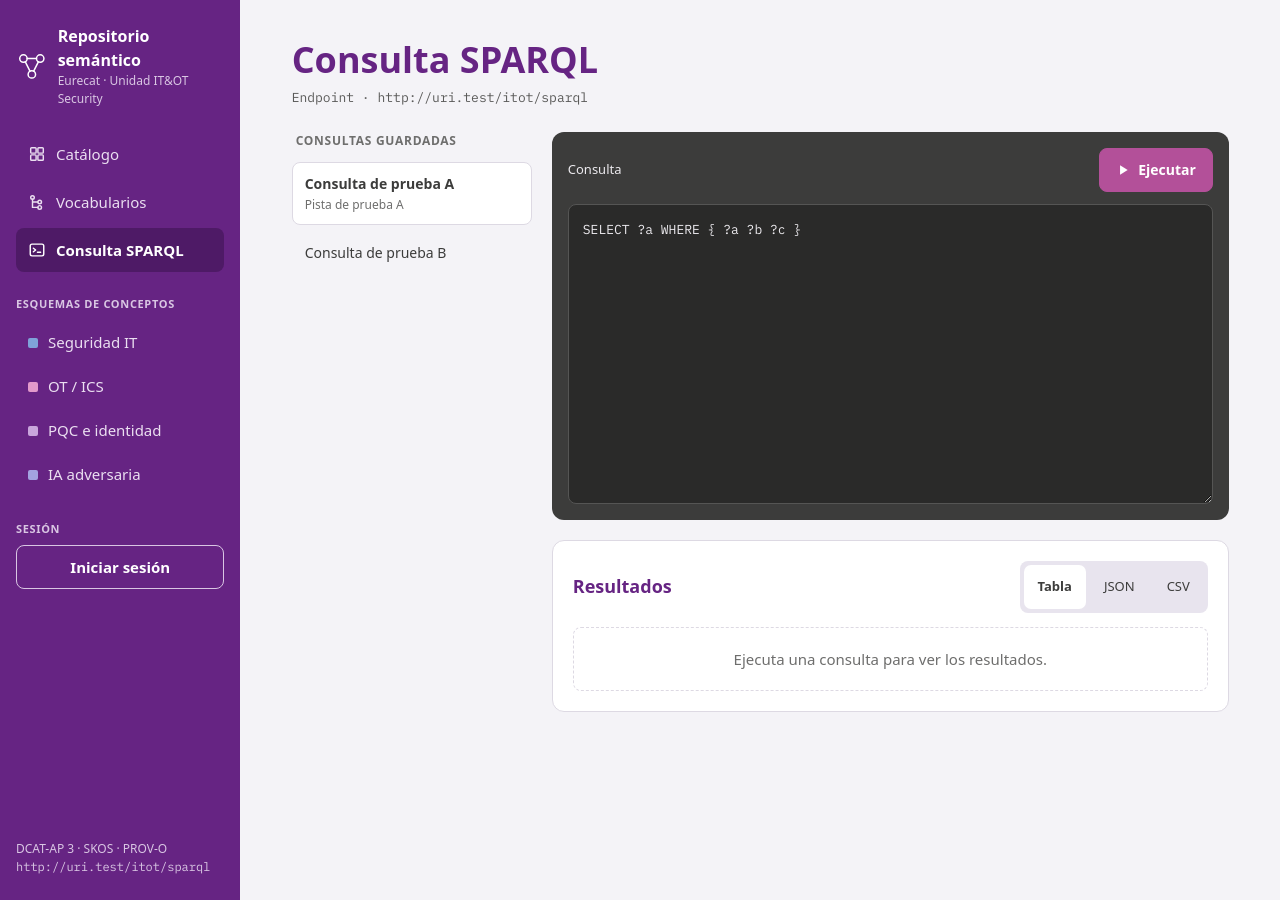
Scenario: Consola SPARQL › «Ejecutar» manda la consulta por POST a /sparql y pinta la tabla con el recuento
The image size is (1280, 900).
expect the button "Consulta de prueba A Pista de prueba A" is shown: met, box 292,162 -> 532,225
Click the button "Ejecutar": (1156, 170) 1099,148 -> 1213,192
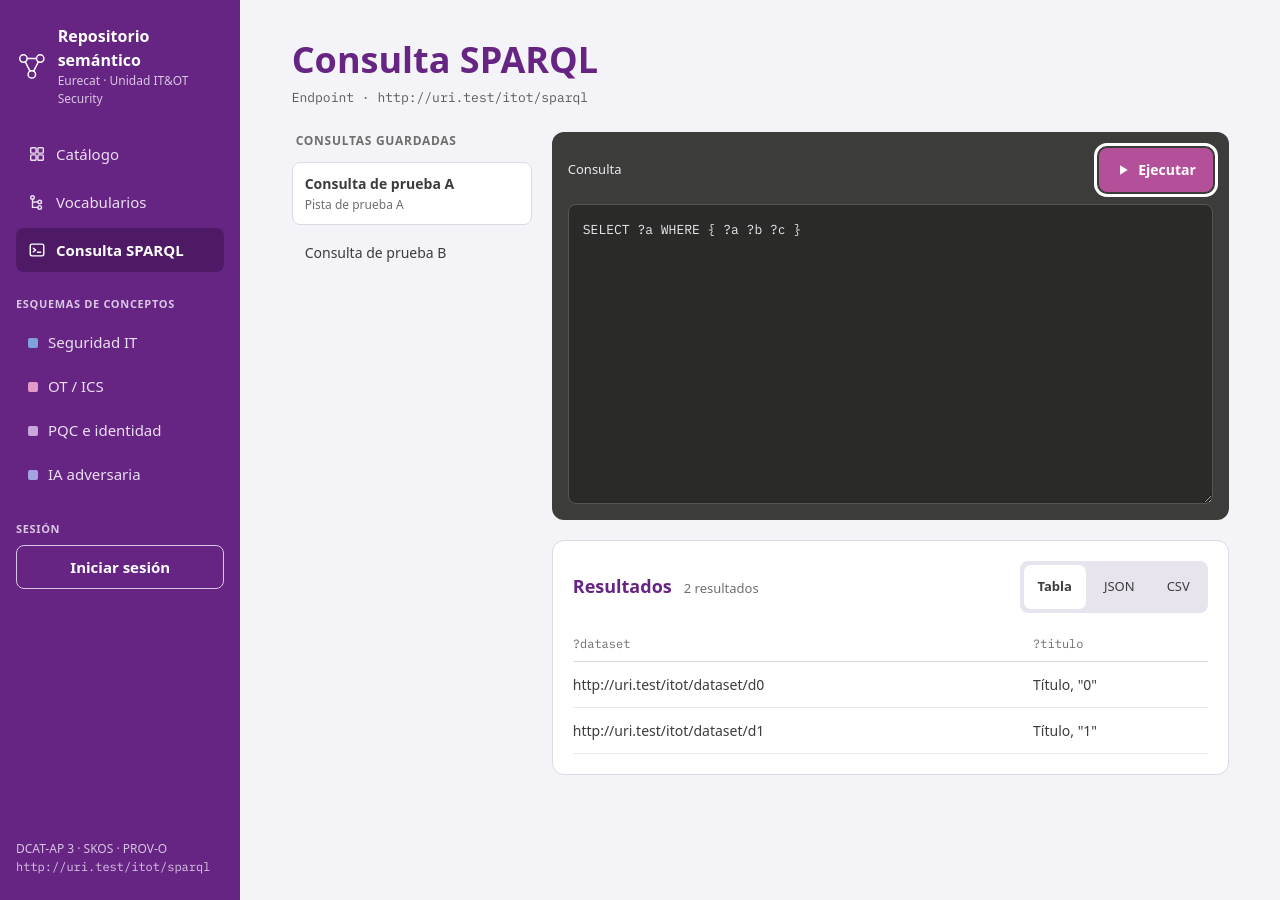
expect the text "2 resultados" is shown: met, box 684,579 -> 759,599
expect the column headings read "?dataset", "?titulo", in this order: met, box 573,627 -> 1033,661; 1033,627 -> 1208,661
expect the text "http://uri.test/itot/dataset/d0" is shown: met, box 573,661 -> 1033,707
